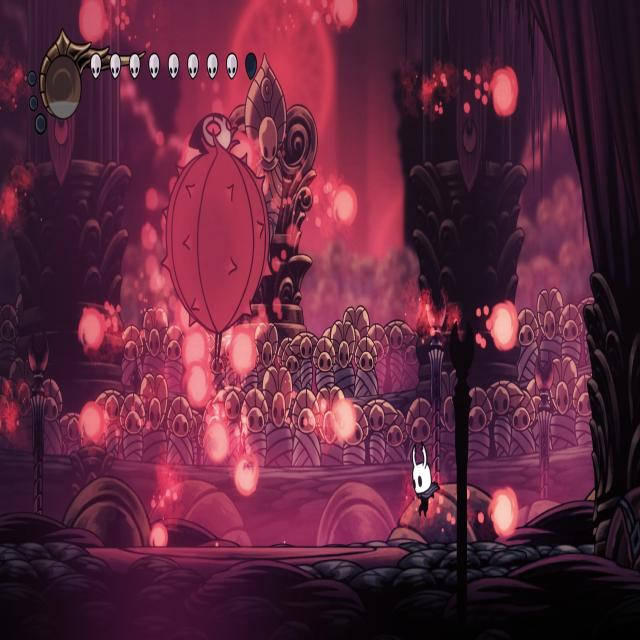Player: (411, 442, 441, 520)
Pufferfish: (157, 108, 276, 369)
Tiny Fireballs: (490, 69, 518, 119), (230, 326, 258, 376), (491, 489, 517, 540), (186, 361, 213, 409), (490, 303, 516, 352), (80, 0, 108, 44), (332, 399, 358, 445), (80, 308, 106, 354), (233, 455, 260, 497), (81, 400, 106, 444), (181, 327, 207, 368), (206, 420, 230, 464), (335, 186, 358, 226), (333, 0, 359, 29), (150, 518, 170, 548)
